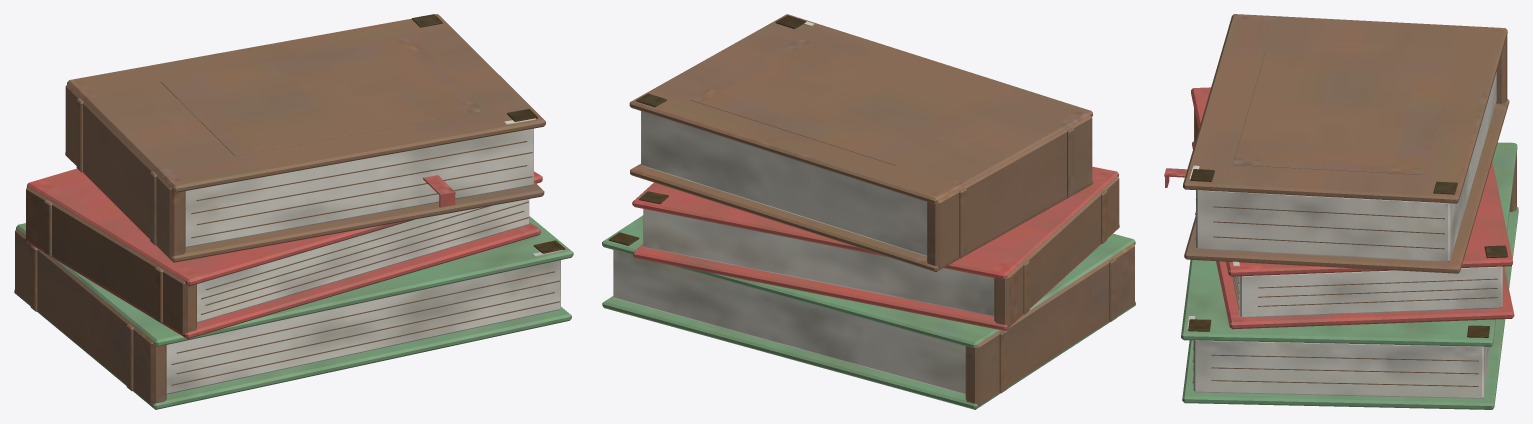
Rendered from O09_ledger_books_stack.glb.
3 views of the same model, side by side, from view 1: azimuth 30°, elevation 25°; view 2: azimuth 150°, elevation 25°; view 3: azimuth 270°, elevation 25° (orthographic). The views are drawn at different scales.
Parts seen in each view (by area): view 1: Ledger_0_lower_board; view 2: Ledger_0_lower_board; view 3: Ledger_0_lower_board.
Boxes of the visible parts, x1=… form: Ledger_0_lower_board: x1=14, y1=14, x2=573, y2=409; Ledger_0_lower_board: x1=602, y1=14, x2=1135, y2=409; Ledger_0_lower_board: x1=1164, y1=14, x2=1518, y2=409.
Bounding box in the file's own units: 0.4 × 0.189 × 0.2895.
Materials: 6 (6 with a texture image).
